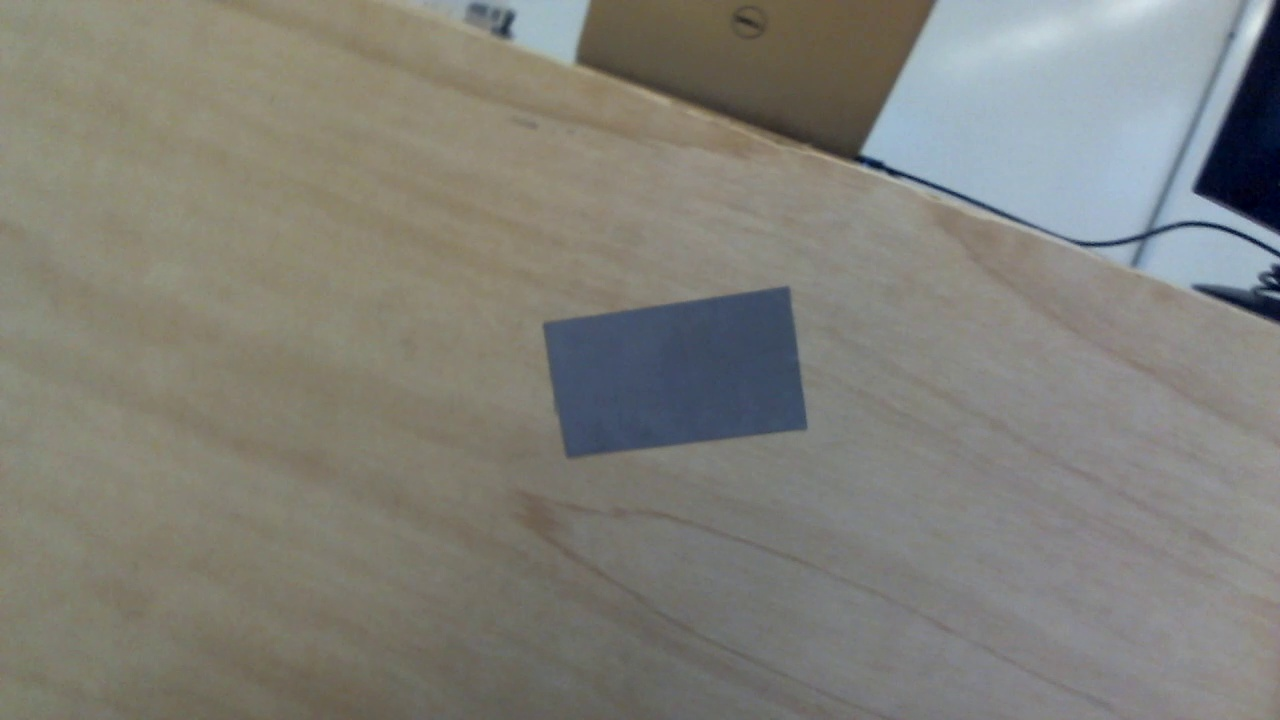Tape: (541, 283, 808, 459)
